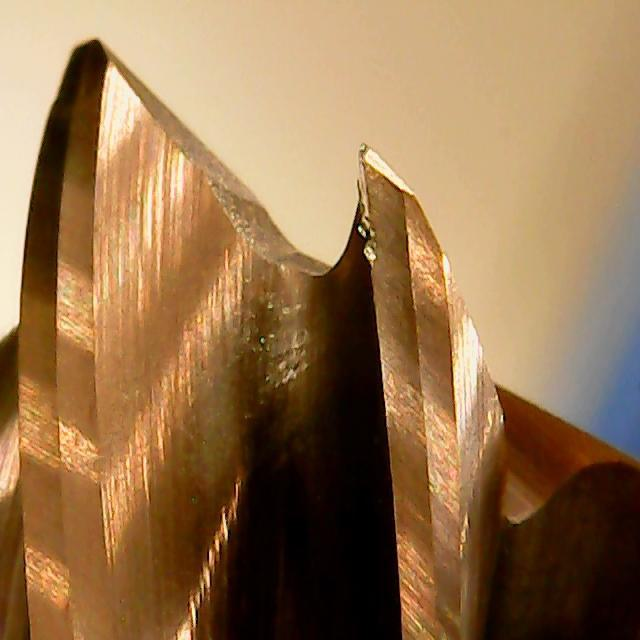Tool-wear-class-1: (348, 140, 450, 454)
